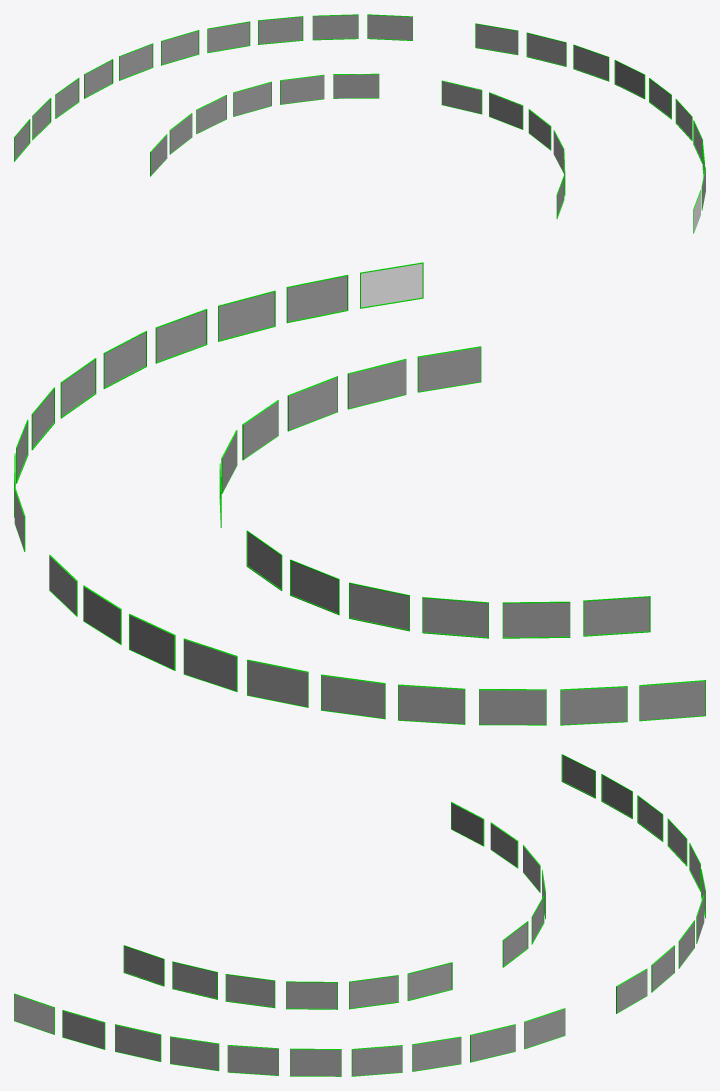
3 renders of one model, top to bottom at view 1: azimuth 30°, elevation 25°; view 2: azimuth 150°, elevation 25°; view 3: azimuth 270°, elevation 25°, orthographic. The views are drawn at different scales.
Visible parts, largest first — view 1: Portrait1_16_9; view 2: Portrait1_16_9; view 3: Portrait1_16_9.
Part boxes in pixels (<box>): Portrait1_16_9: <box>14,14,705,233</box>; Portrait1_16_9: <box>14,262,705,725</box>; Portrait1_16_9: <box>14,754,705,1076</box>.
Bounding box in the file's own units: 36.77 × 1.6 × 36.43.
